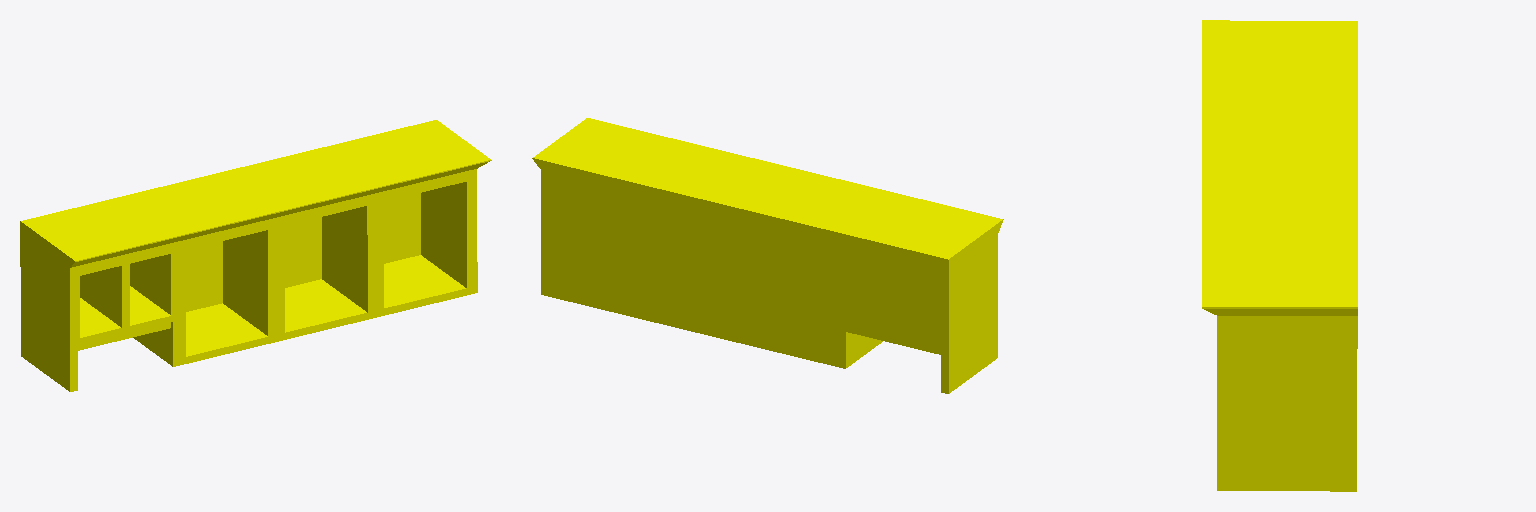
robot.urdf — upper_cabinet_main_body:
<?xml version="1.0"?>
<robot name="upper_cabinet_main_body">
<link name="upper_cabinet_main_body_base_link">
  <inertial>
    <mass value="0.0"/>
    <origin xyz="0 0 0" rpy="1.57 0 0"/>
    <inertia ixx="0.01" ixy="0" ixz="0" iyy="0.01" iyz="0" izz="0.01"/>
  </inertial>

  <visual>
    <origin xyz="0 0 0" rpy="1.57 0 0"/>
    <geometry>
      <mesh filename="package://meshes/upper_cabinet_main_body.dae" scale="1 1 1"/>
    </geometry>
    <material name="material_name">
      <color rgba="1.0 1.0 0.0 1.0"/>
    </material>
  </visual>

  <collision>
    <origin xyz="0 0 0" rpy="1.57 0 0"/>
    <geometry>
      <mesh filename="package://meshes/upper_cabinet_main_body.dae" scale="1 1 1"/> 
      
      </geometry>
  </collision>
</link>
</robot>

--- Facts derived from the render (not from the file) ---
Views: 3 orthographic renders of the robot side by side, from view 1: azimuth 30°, elevation 25°; view 2: azimuth 150°, elevation 25°; view 3: azimuth 270°, elevation 25°.
Robot: upper_cabinet_main_body — 1 links, 0 joints (none); root link upper_cabinet_main_body_base_link; default pose: every joint at zero.
Visible links, largest first — view 1: upper_cabinet_main_body_base_link; view 2: upper_cabinet_main_body_base_link; view 3: upper_cabinet_main_body_base_link.
Boxes of the visible links, box(x1,y1,x2,y2) form: upper_cabinet_main_body_base_link: box(20, 120, 491, 391); upper_cabinet_main_body_base_link: box(532, 118, 1003, 393); upper_cabinet_main_body_base_link: box(1202, 20, 1357, 491).
Bounding box of the posed robot: 2.67 × 0.6096 × 0.826 m (x, y, z).
1 mesh visuals loaded from 1 distinct referenced files (1 Collada DAE).
